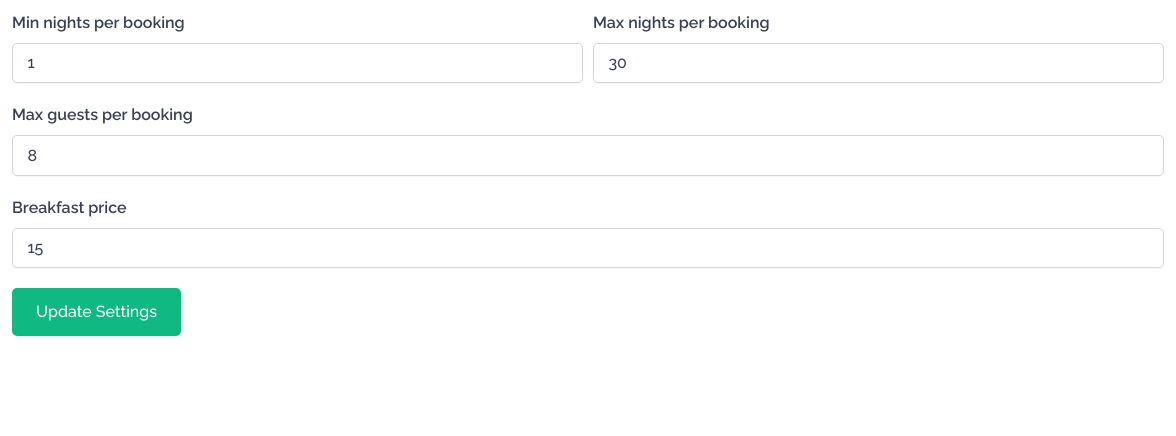
Test: UpdateSettingsForm › should show error messages if input values are not provided
Clear the number field labelled "Min nights per booking" at [298, 63], box top-left (12, 43), bottom-right (583, 83)
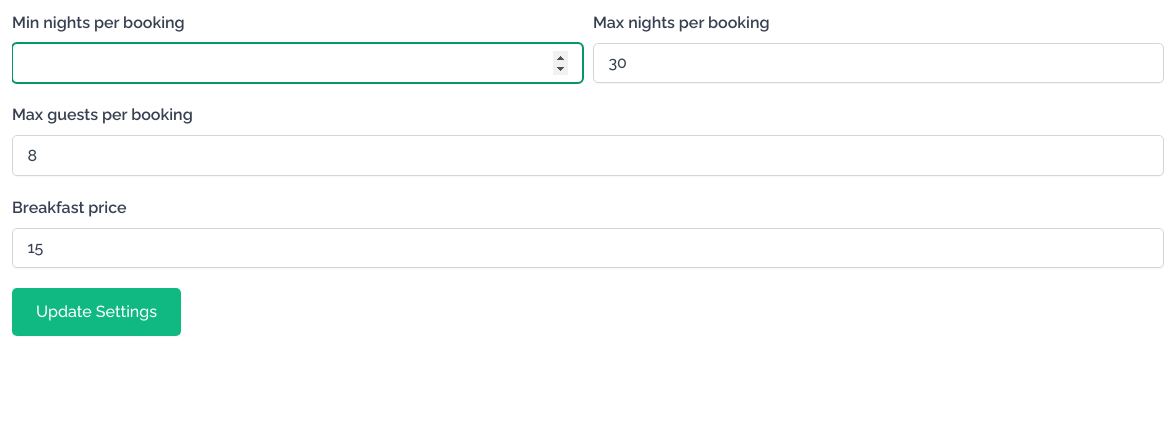
Clear the number field labelled "Max nights per booking" at [878, 63], box top-left (593, 43), bottom-right (1164, 83)
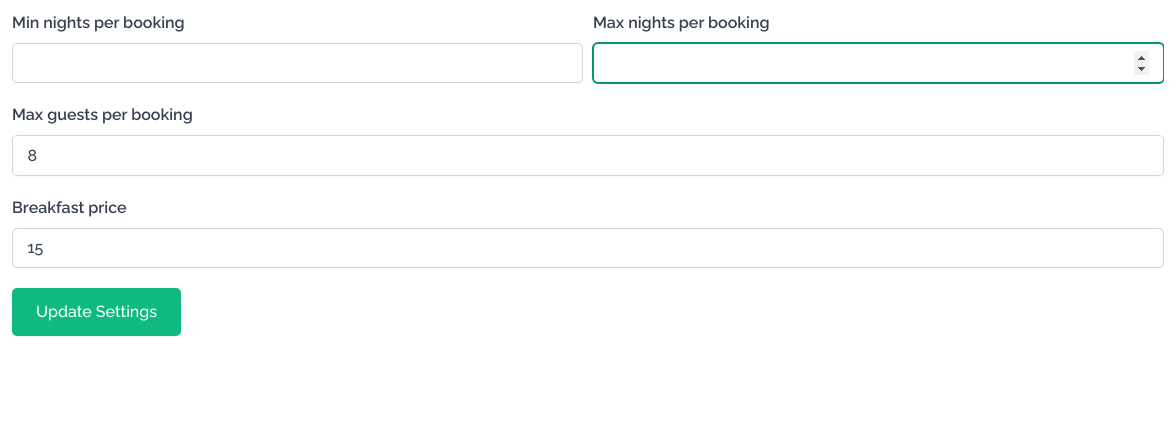
Clear the number field labelled "Max guests per booking" at [588, 156], box top-left (12, 135), bottom-right (1164, 176)
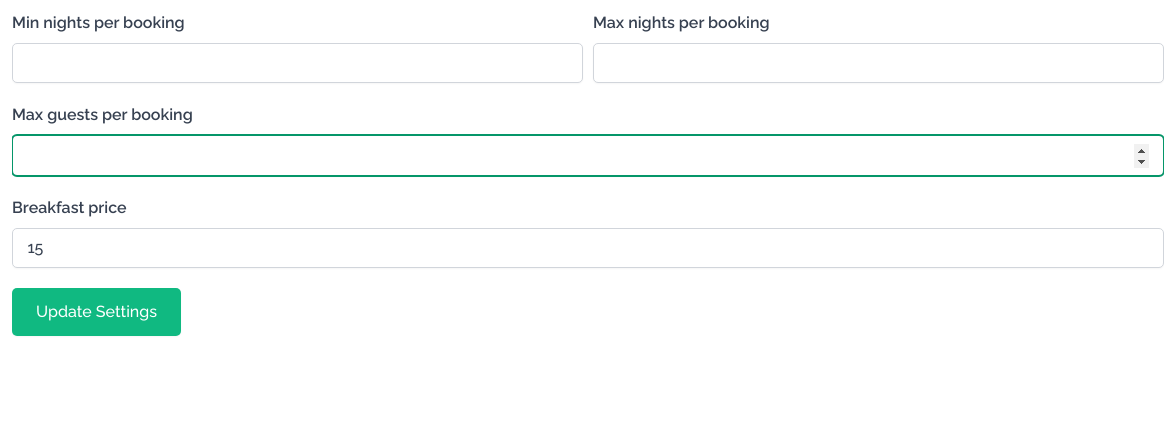
Clear the number field labelled "Breakfast price" at [588, 248], box top-left (12, 228), bottom-right (1164, 268)
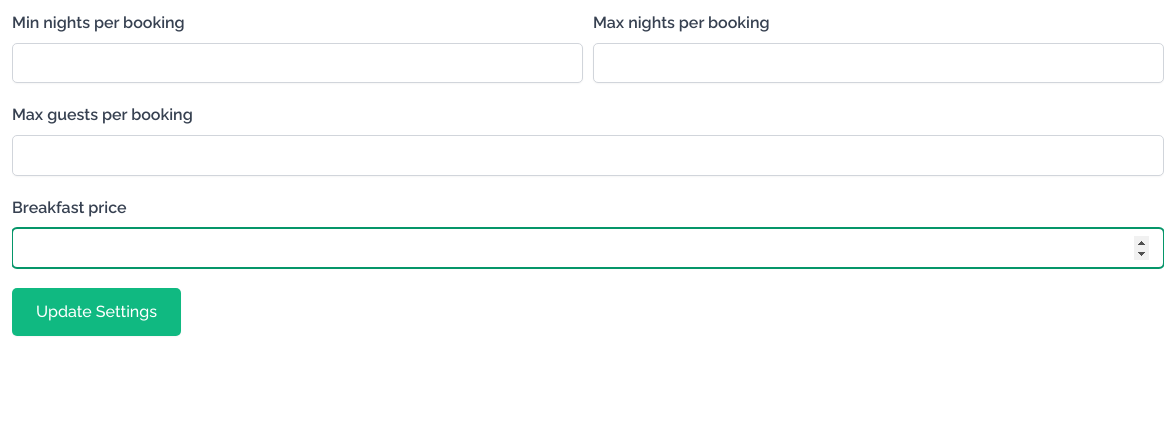
Click the button "Update Settings" at [97, 312], box top-left (12, 288), bottom-right (181, 336)
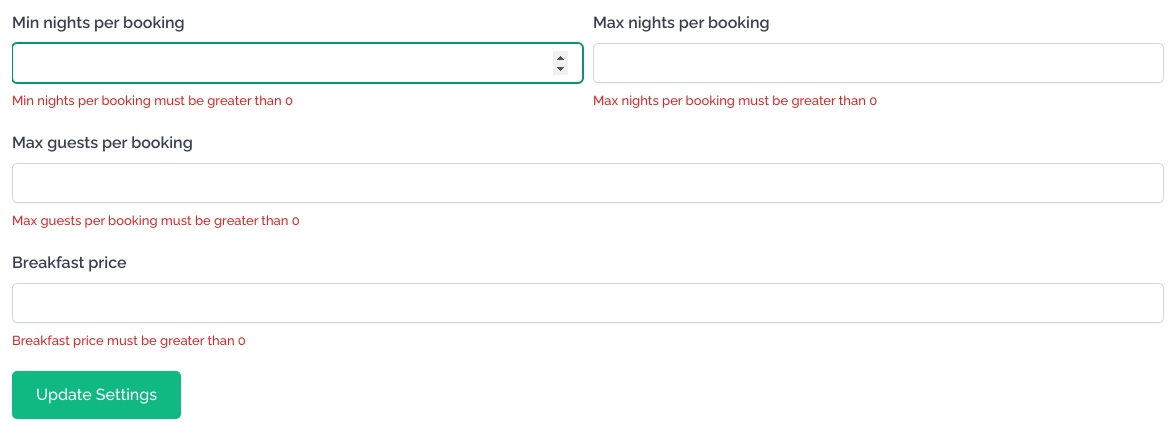
Now the text "Min nights per booking must be greater than 0" is shown, box top-left (12, 93), bottom-right (293, 108)
Now the text "Max nights per booking must be greater than 0" is shown, box top-left (593, 93), bottom-right (877, 108)
Now the text "Max guests per booking must be greater than 0" is shown, box top-left (12, 213), bottom-right (300, 228)
